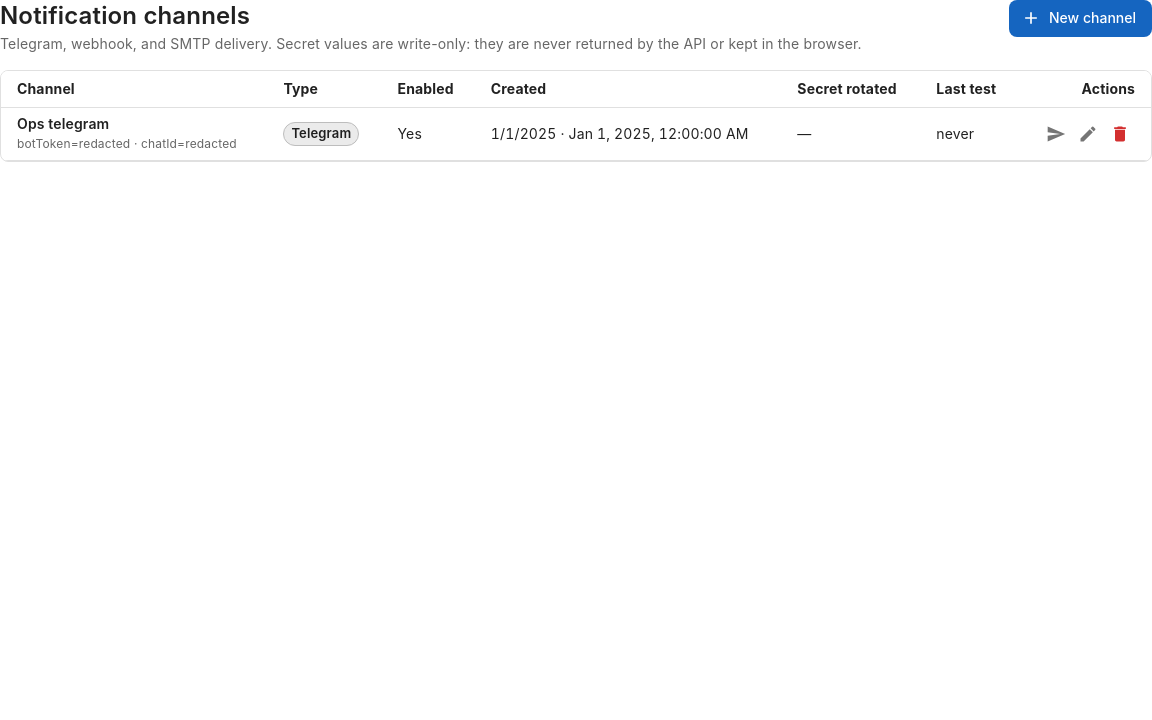
Test: NotificationsPage › shows the test result without exposing provider response bodies
The width and height of the screenshot is (1152, 720).
Click the button named "Test channel Ops telegram" at (1056, 134), box [1041, 119, 1071, 149]
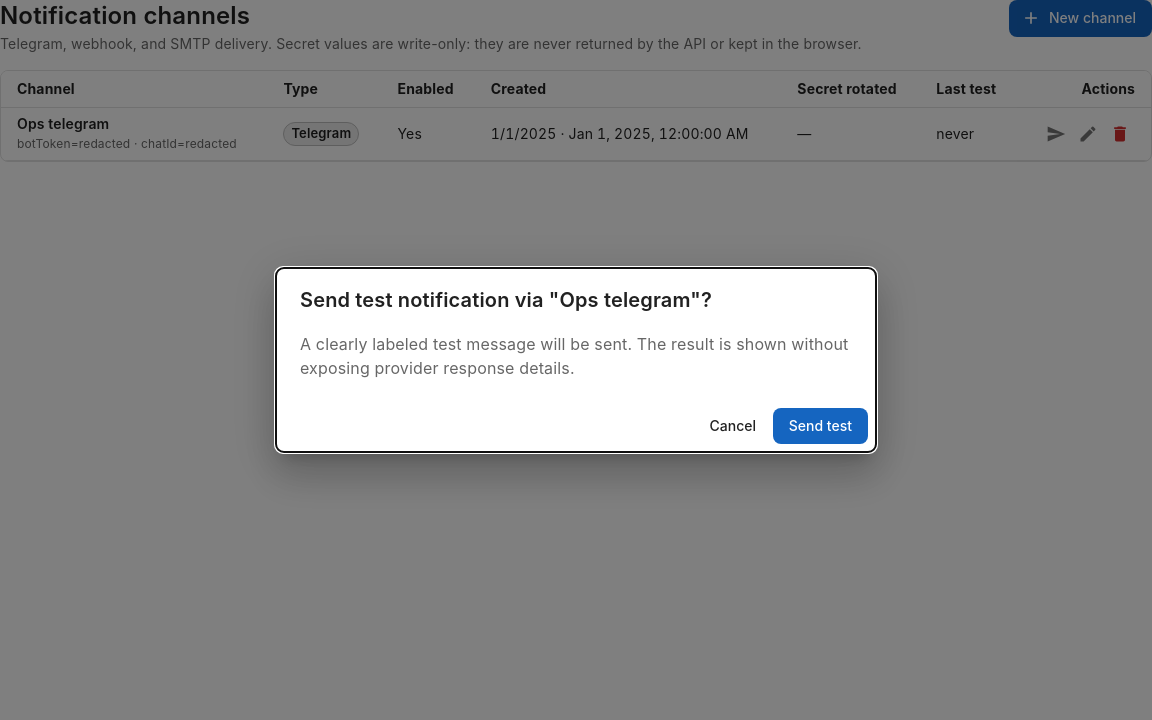
Click the button "Send test" at (820, 426), box [773, 408, 868, 444]
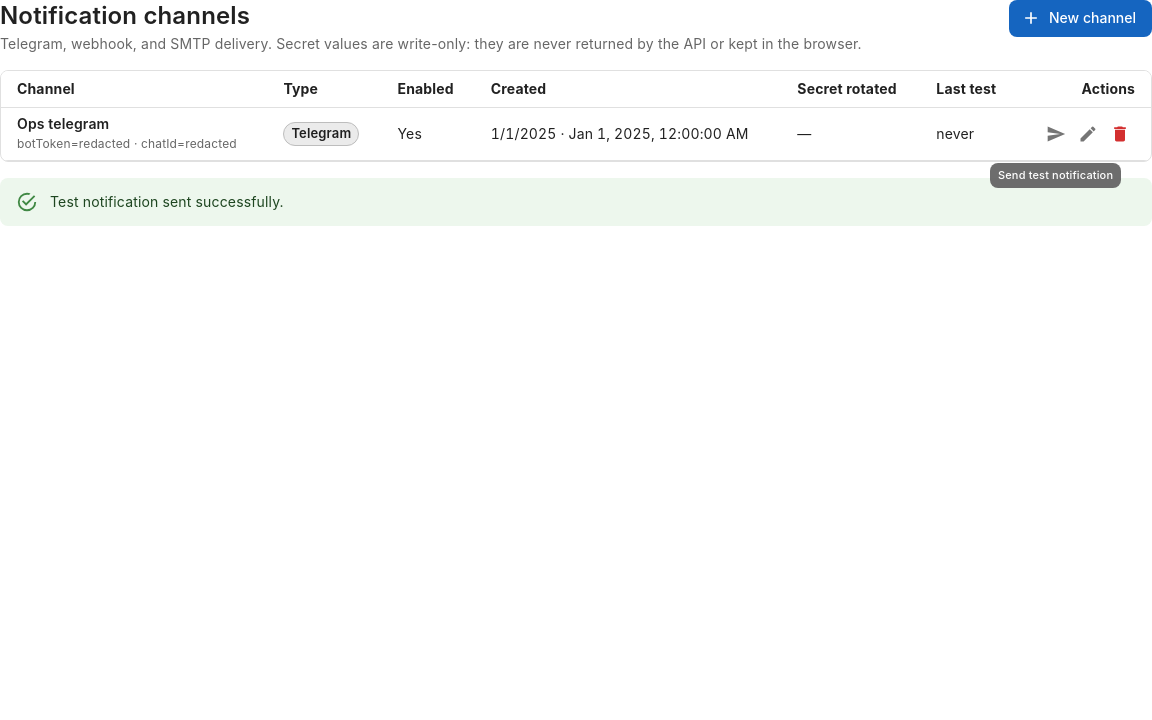
Expected: the text "Test notification sent successfully." is shown, [50, 193, 284, 210]
